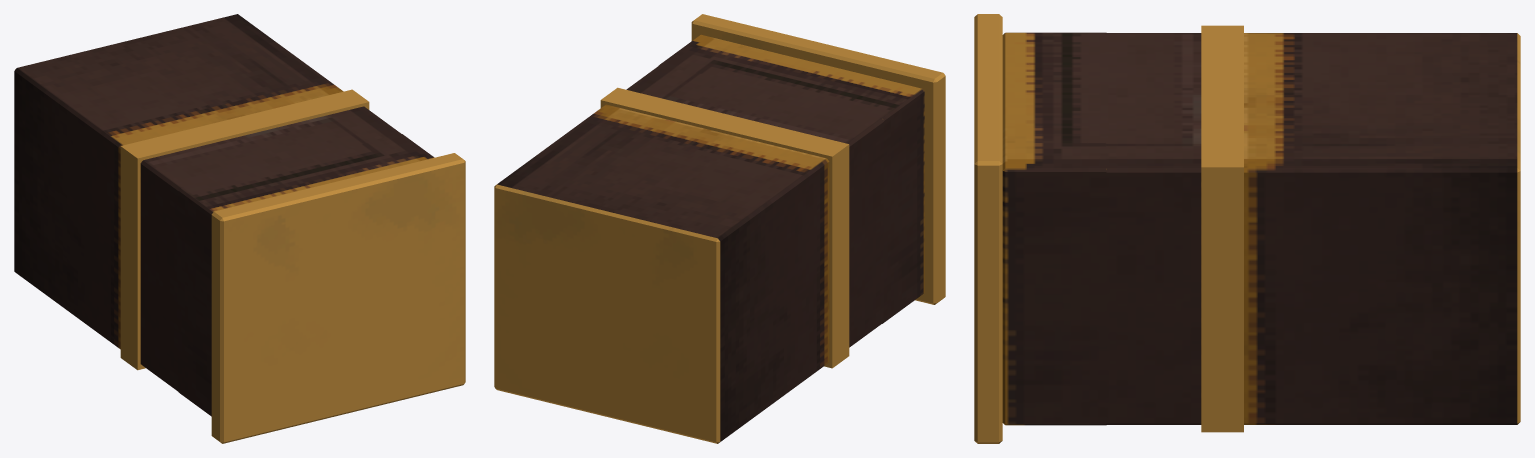
File: pz_trashbin_seahorse.obj
The picture shows the model from 3 angles, left to right: view 1: azimuth 30°, elevation 25°; view 2: azimuth 150°, elevation 25°; view 3: azimuth 270°, elevation 25°; orthographic projection. The views are drawn at different scales.
Parts seen in each view (by area): view 1: pz_trashbin_seahorse_|_native_square_bin_cabinet, pz_trashbin_seahorse_|_native_projecting_cover, pz_trashbin_seahorse_|_upper_waste_door, pz_trashbin_seahorse_|_colored_middle_band; view 2: pz_trashbin_seahorse_|_native_square_bin_cabinet, pz_trashbin_seahorse_|_upper_waste_door, pz_trashbin_seahorse_|_native_projecting_cover, pz_trashbin_seahorse_|_colored_middle_band; view 3: pz_trashbin_seahorse_|_native_square_bin_cabinet, pz_trashbin_seahorse_|_upper_waste_door, pz_trashbin_seahorse_|_colored_middle_band, pz_trashbin_seahorse_|_native_projecting_cover.
Part boxes in pixels (left/top/right/bottom): pz_trashbin_seahorse_|_native_square_bin_cabinet: left=14, top=14, right=401, bottom=391; pz_trashbin_seahorse_|_native_projecting_cover: left=211, top=153, right=465, bottom=443; pz_trashbin_seahorse_|_upper_waste_door: left=178, top=134, right=434, bottom=416; pz_trashbin_seahorse_|_colored_middle_band: left=120, top=89, right=369, bottom=370; pz_trashbin_seahorse_|_native_square_bin_cabinet: left=494, top=64, right=884, bottom=443; pz_trashbin_seahorse_|_upper_waste_door: left=658, top=34, right=924, bottom=323; pz_trashbin_seahorse_|_native_projecting_cover: left=691, top=14, right=945, bottom=304; pz_trashbin_seahorse_|_colored_middle_band: left=600, top=87, right=849, bottom=368; pz_trashbin_seahorse_|_native_square_bin_cabinet: left=1105, top=33, right=1520, bottom=424; pz_trashbin_seahorse_|_upper_waste_door: left=1002, top=32, right=1106, bottom=425; pz_trashbin_seahorse_|_colored_middle_band: left=1201, top=25, right=1243, bottom=432; pz_trashbin_seahorse_|_native_projecting_cover: left=974, top=14, right=1002, bottom=443.
Size of the model in its own units: 0.5 by 0.44 by 0.77.
3 materials, 3 textured.
